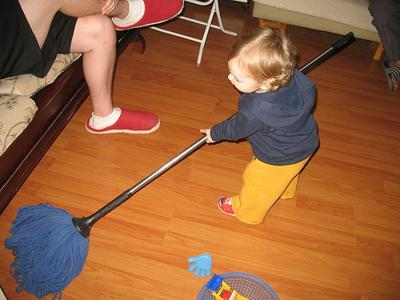person: (200, 26, 321, 227)
